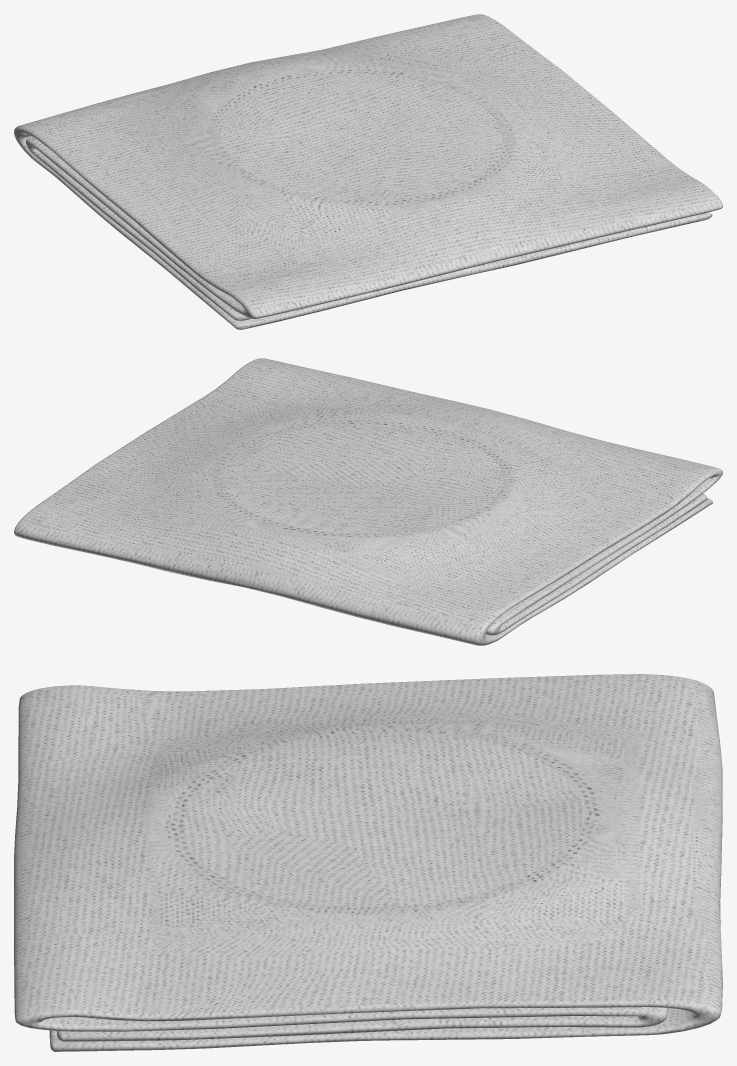
Rendered from 13. Fenestrated Drape.glb.
The picture shows the model from 3 angles, top to bottom: view 1: azimuth 30°, elevation 25°; view 2: azimuth 150°, elevation 25°; view 3: azimuth 270°, elevation 25°; orthographic projection. The views are drawn at different scales.
Parts seen in each view (by area): view 1: Fenestrated Drape.001; view 2: Fenestrated Drape.001; view 3: Fenestrated Drape.001.
Part boxes in pixels (bbox=[...]): Fenestrated Drape.001: bbox=[14, 14, 722, 329]; Fenestrated Drape.001: bbox=[14, 358, 722, 645]; Fenestrated Drape.001: bbox=[14, 674, 722, 1051].
Bounding box in the file's own units: 0.0868 × 0.0102 × 0.0791.
1 material, 1 textured.
